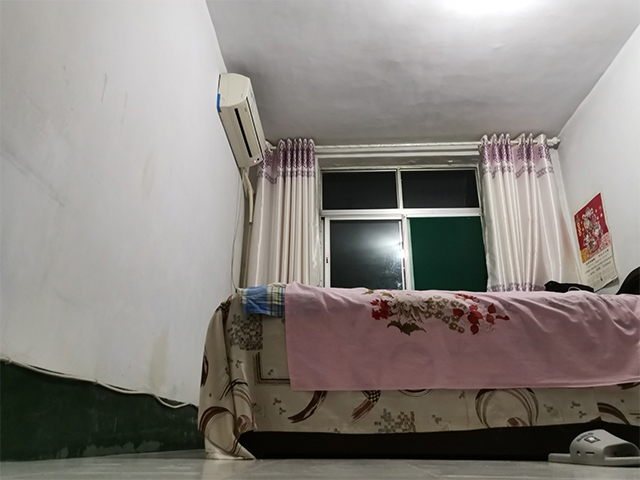bed: (199, 266, 640, 461)
curtain: (475, 130, 582, 290), (266, 136, 327, 285)
slippers: (545, 426, 640, 468)
